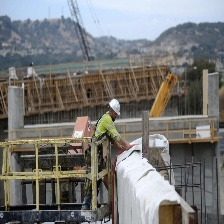helmet: (108, 95, 122, 118)
person: (88, 94, 124, 220)
